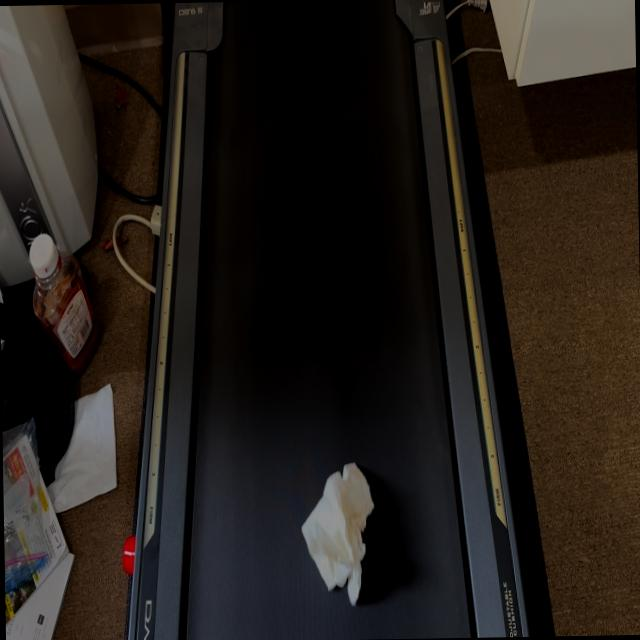Recycle: (300, 462, 378, 606)
